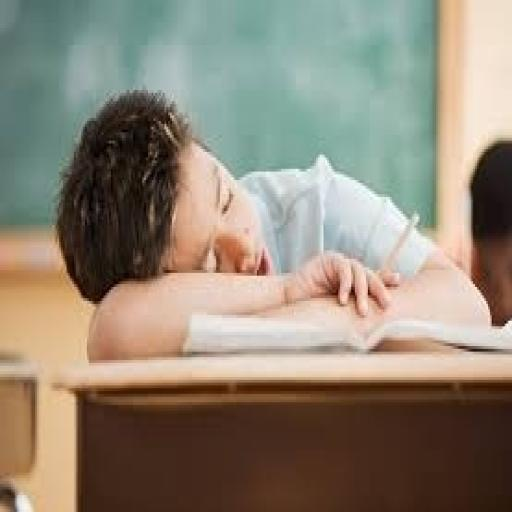sleeping: (54, 84, 494, 363)
